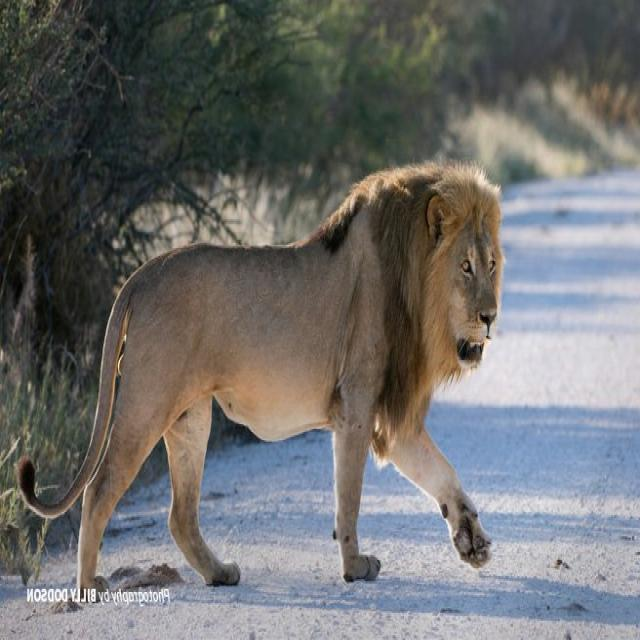lion: (19, 162, 504, 589)
